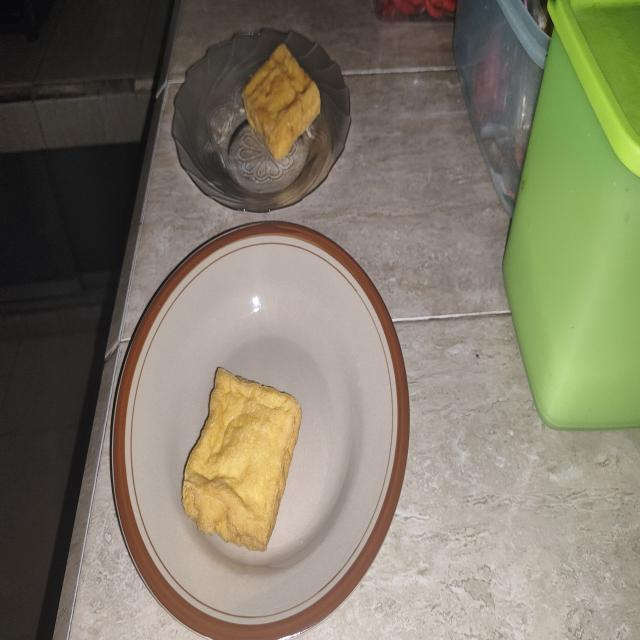tahu_goreng: (182, 368, 301, 550), (242, 44, 321, 162)
